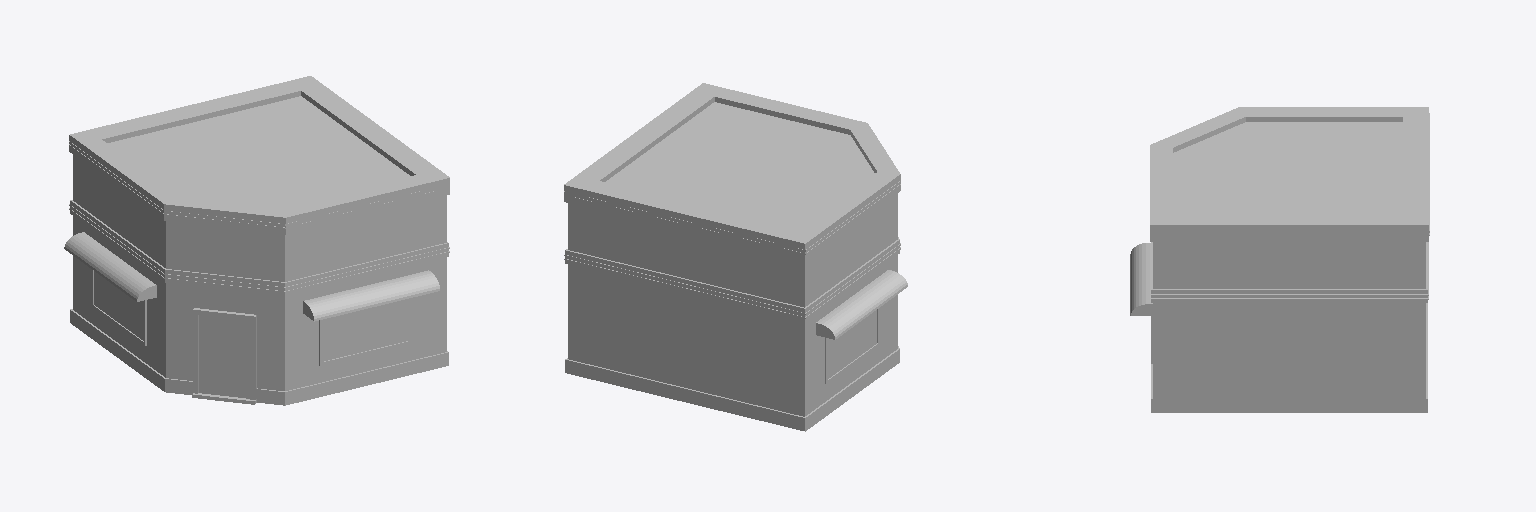
The model's file is shoes-shop.obj.
3 renders of one model, left to right at view 1: azimuth 30°, elevation 25°; view 2: azimuth 150°, elevation 25°; view 3: azimuth 270°, elevation 25°, orthographic.
Visible parts, largest first — view 1: Building_Shoes_Shop; view 2: Building_Shoes_Shop; view 3: Building_Shoes_Shop.
Part boxes in pixels (left/top/right/bottom): Building_Shoes_Shop: left=64, top=76, right=449, bottom=405; Building_Shoes_Shop: left=564, top=83, right=907, bottom=431; Building_Shoes_Shop: left=1130, top=107, right=1429, bottom=412.
Bounding box in the file's own units: 474 × 329 × 474.